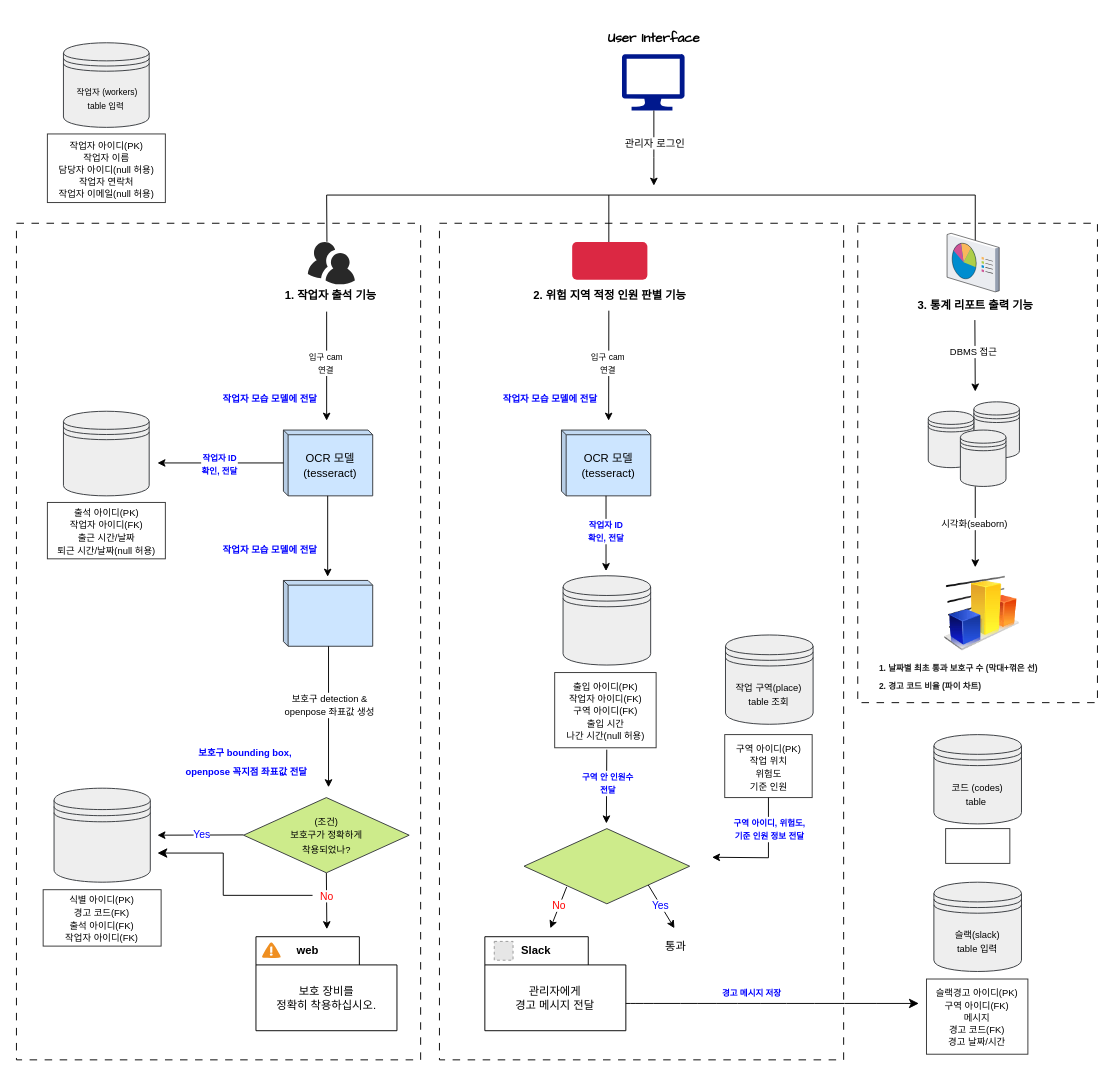
Some shapes in this 1114 by 1078 pixel diagram are drawn without their labels. Grey dashed boxes stand in for pictures. Each missing label, with the centre of its shape:
(조건) 위험지역 내 인원수가 2명 이상인가?: the point at 606,866
Danger: the point at 609,260
Yolo + openpose: the point at 327,613
구역 출입(access) table 입력: the point at 606,620
보호구 착용 여부(safety_check) table 입력: the point at 101,834
출석(attendance) table 입력: the point at 106,453
코드(PK) 내용: the point at 977,845
